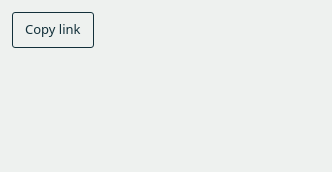
Test case: CopyLinkButton › counts a successful selection copy when the Clipboard API is missing
Click the button "Copy link" at (53, 30), box 12,12 -> 94,48
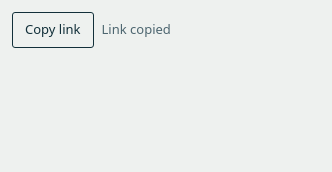
Expected: the text "Link copied" is shown, 102,20 -> 171,40
